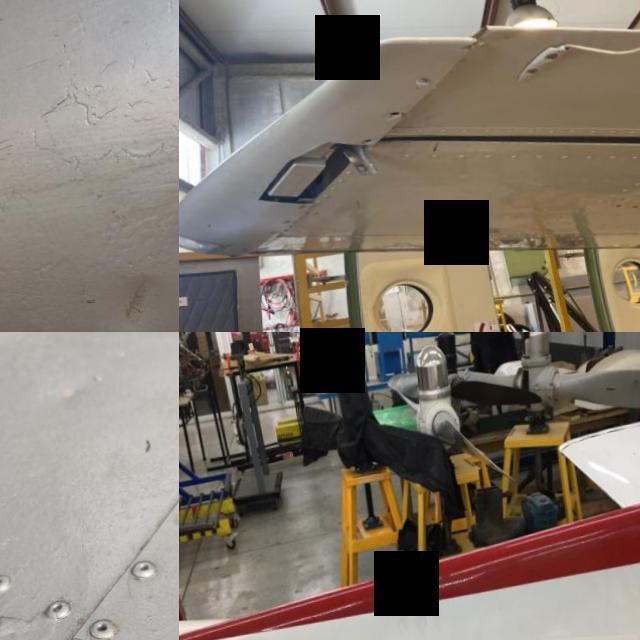Dent: (90, 261, 175, 332)
Missing_Fastener: (413, 80, 433, 94), (380, 114, 400, 125), (358, 140, 374, 150), (264, 232, 277, 238), (292, 208, 306, 212), (279, 222, 289, 227)
